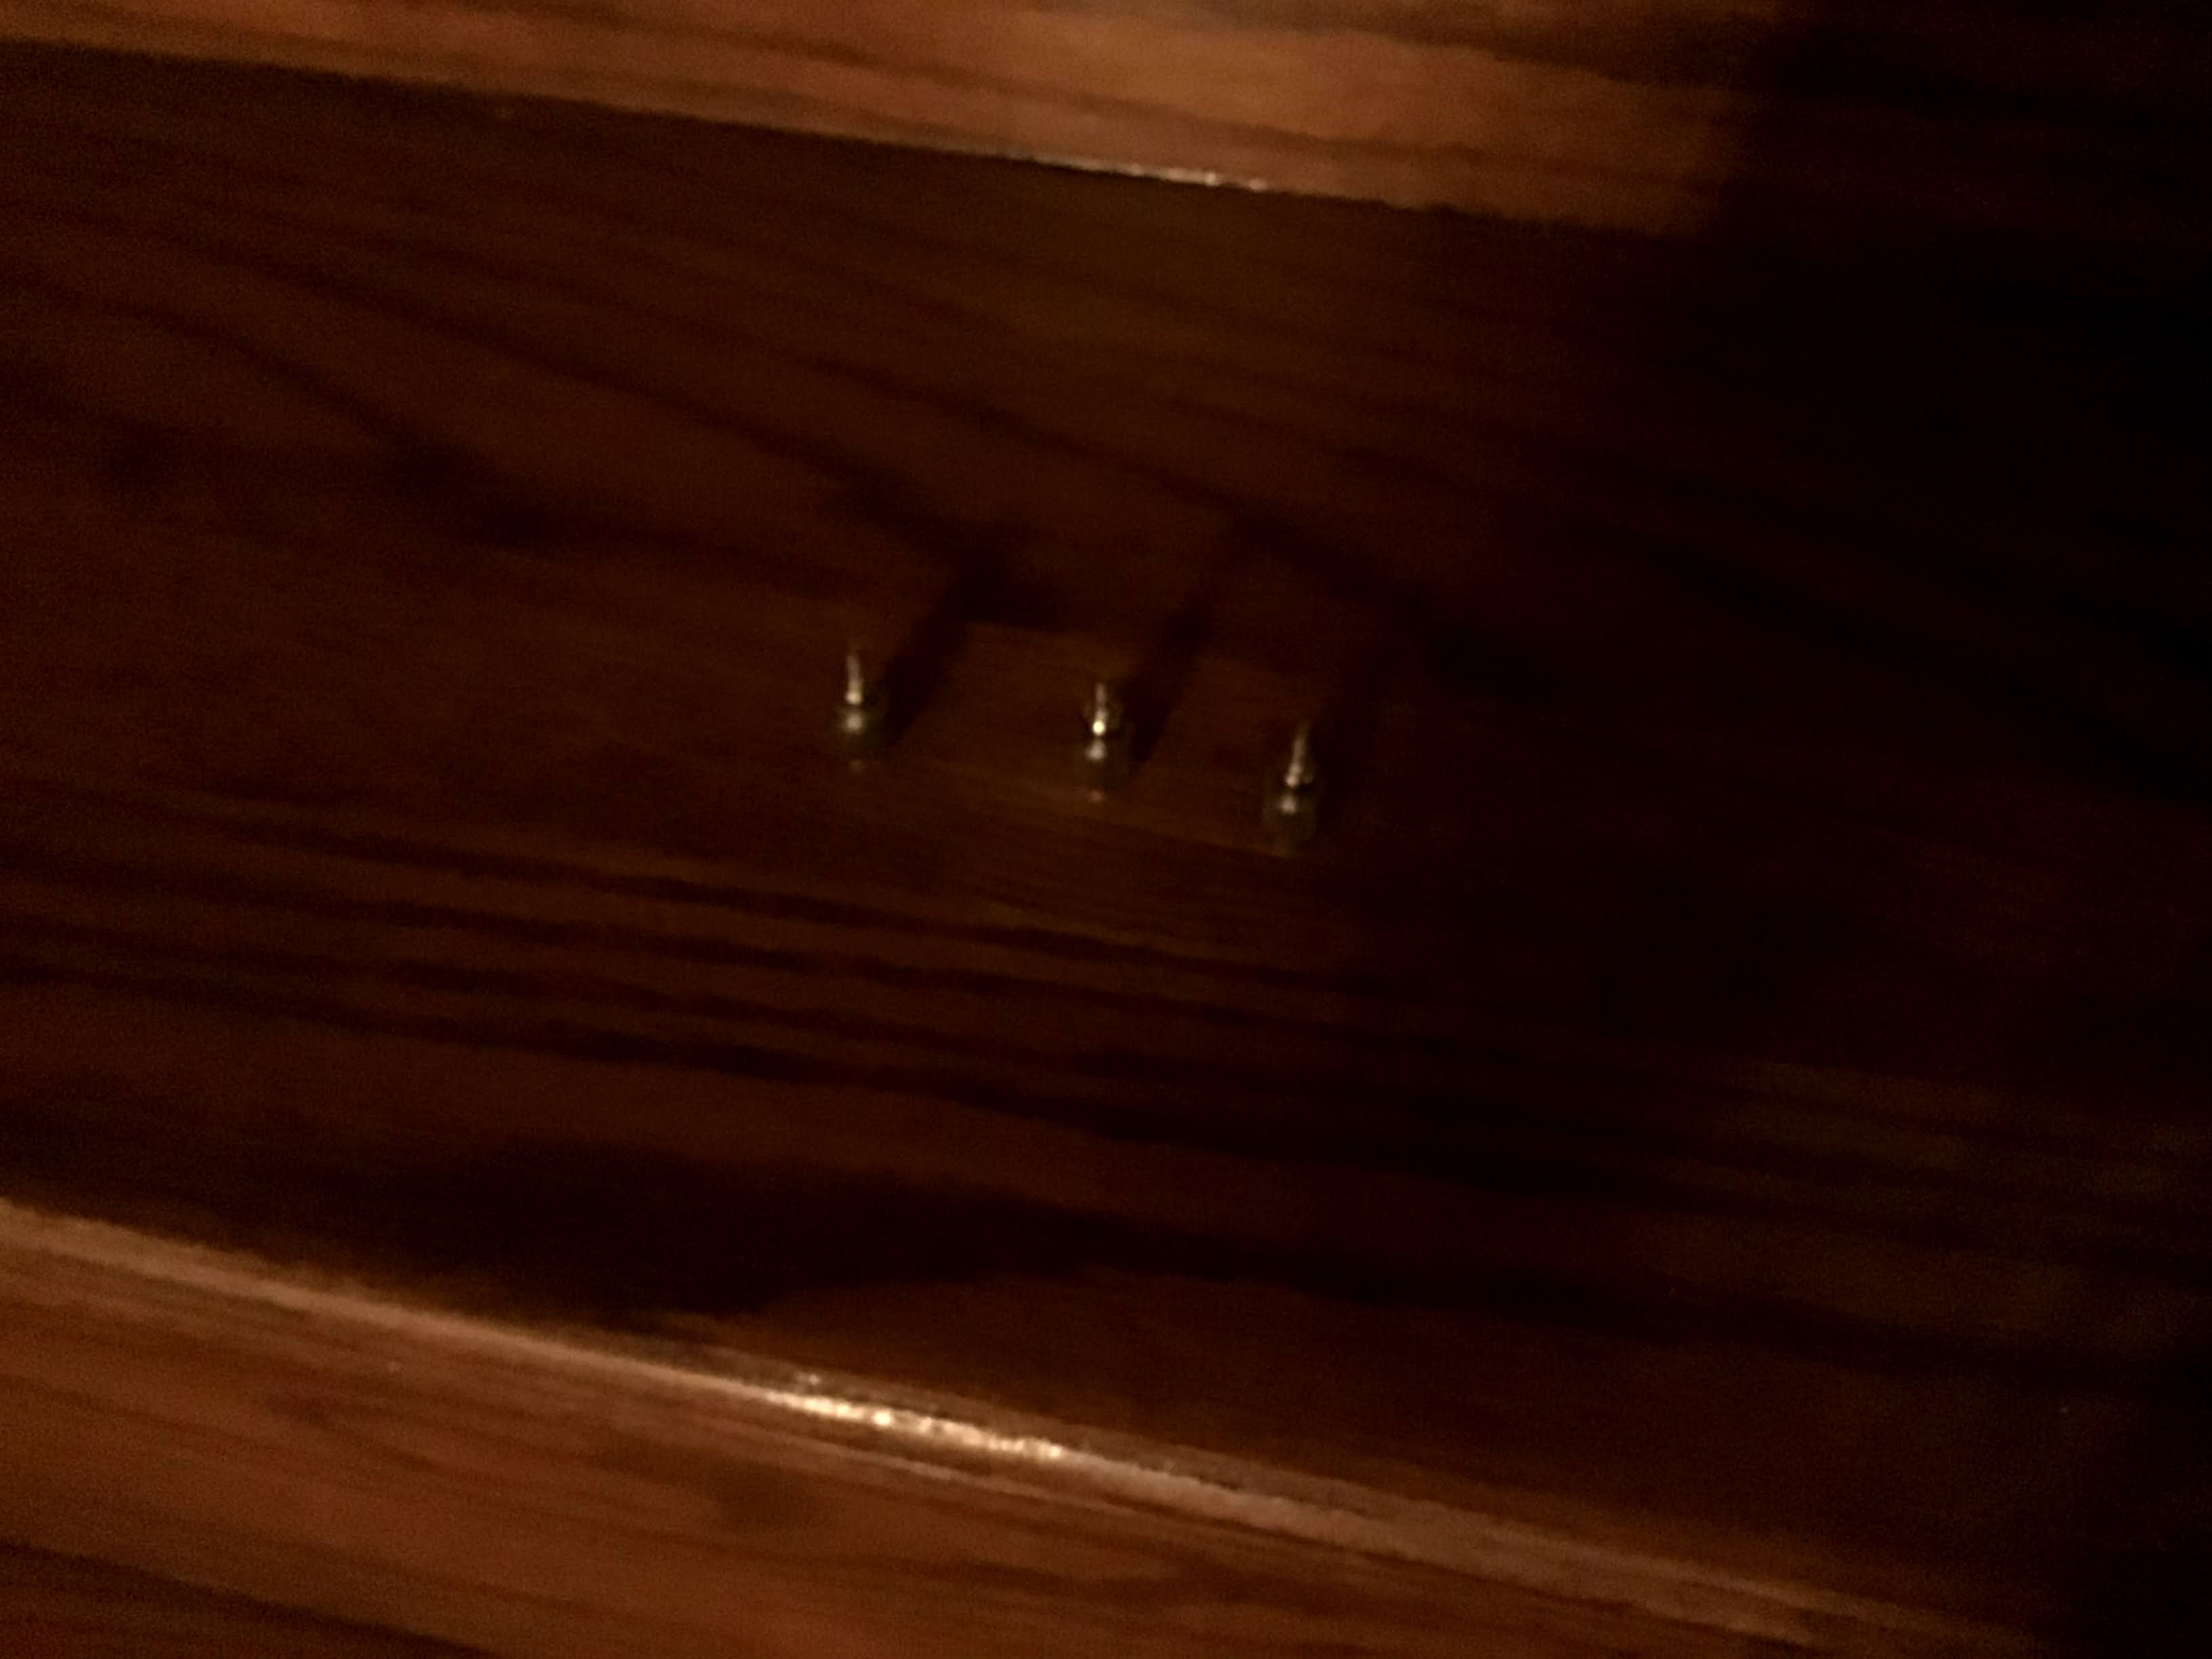Space-debris-small: (1019, 653, 1176, 823), (794, 634, 920, 779), (1238, 697, 1355, 849)
